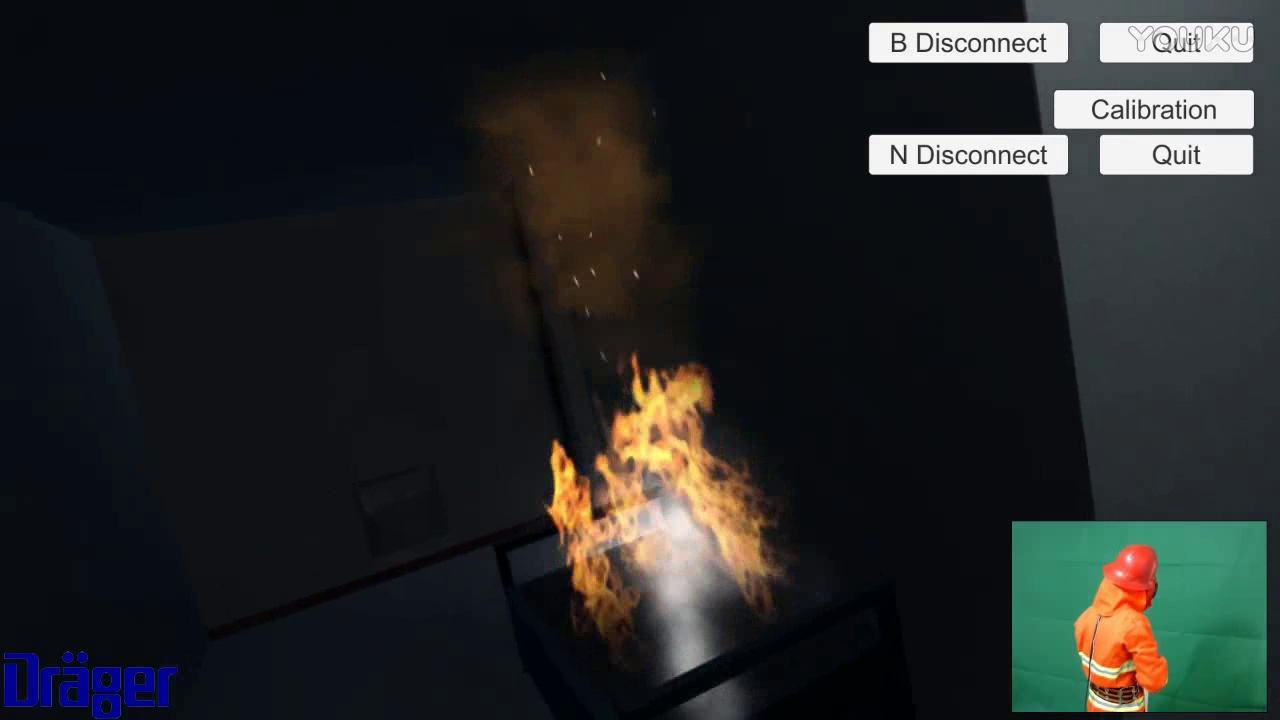fire: (526, 356, 800, 657)
